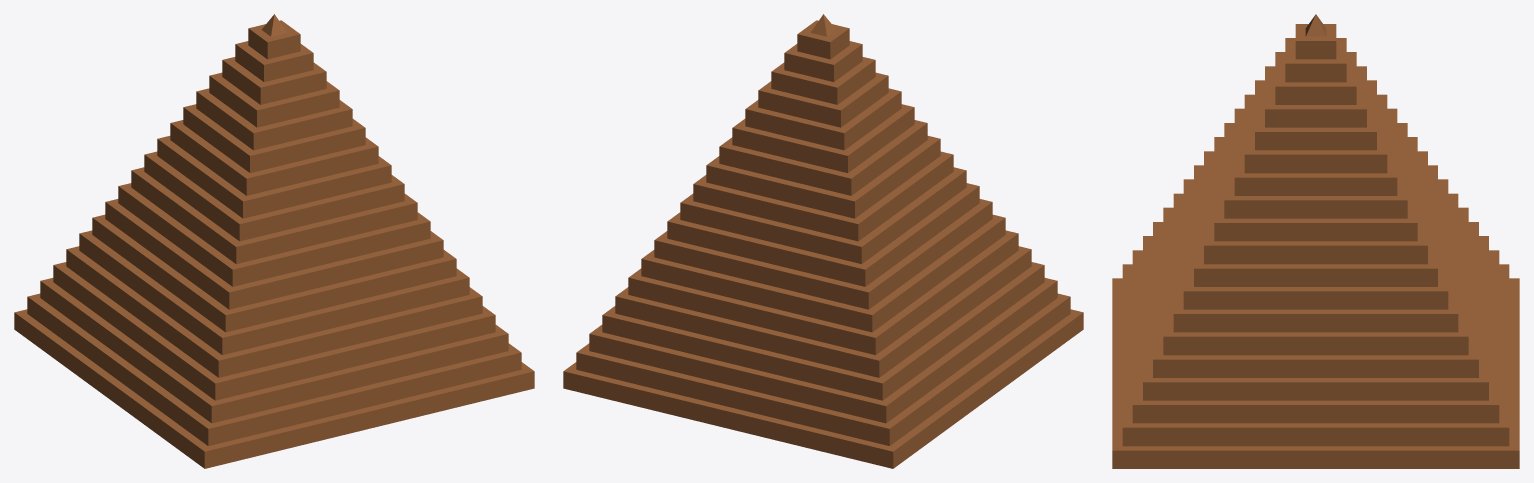
Rendered from ピラミッド.fbx.
3 views of the same model, side by side, from view 1: azimuth 30°, elevation 25°; view 2: azimuth 150°, elevation 25°; view 3: azimuth 270°, elevation 25° (orthographic). The views are drawn at different scales.
Parts seen in each view (by area): view 1: 平面; view 2: 平面; view 3: 平面.
Part boxes in pixels (bbox=[...]): 平面: bbox=[14, 14, 534, 468]; 平面: bbox=[563, 14, 1083, 468]; 平面: bbox=[1112, 14, 1519, 468].
Bounding box in the file's own units: 1000 × 1000 × 1000.
